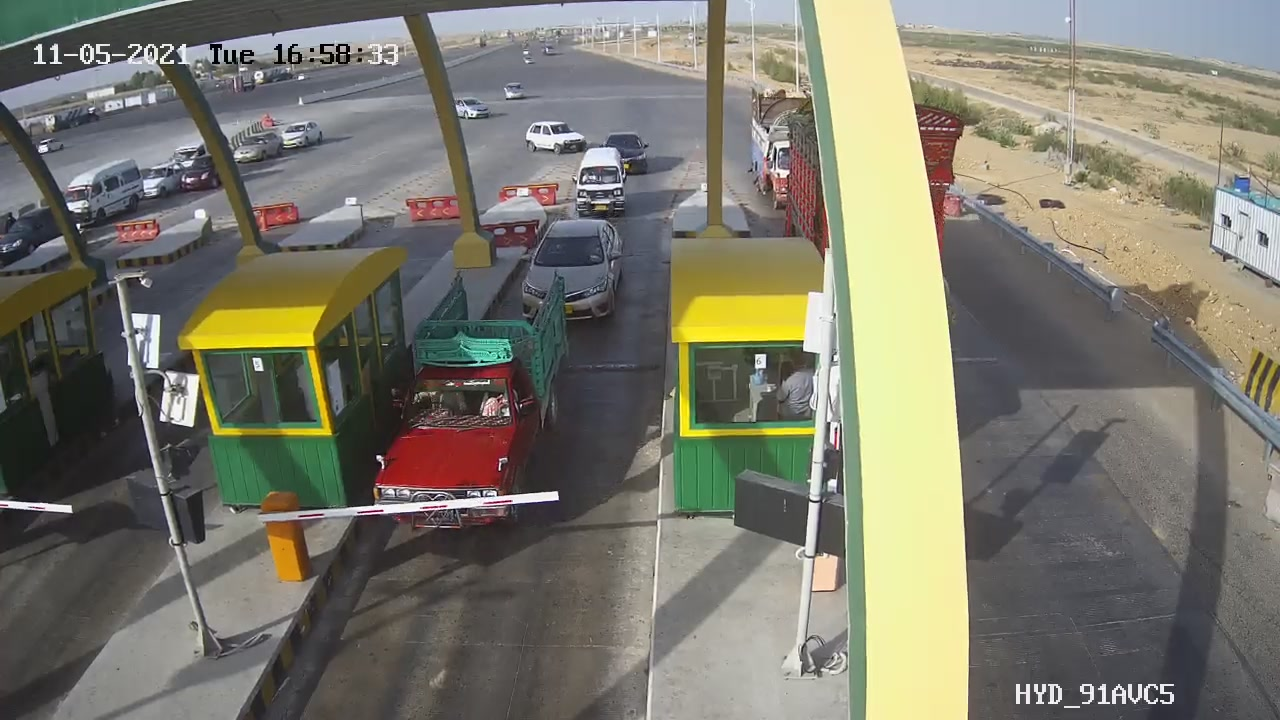F1: (379, 272, 583, 537), (502, 199, 636, 340), (557, 138, 648, 229)
